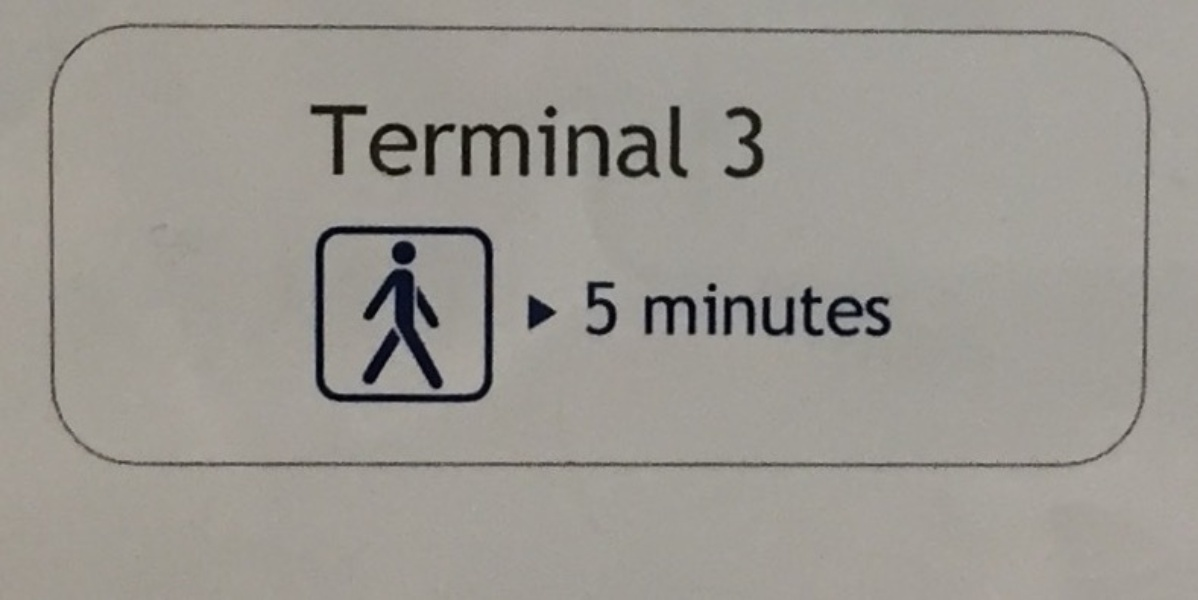text: (737, 104, 752, 181), (321, 104, 336, 180), (337, 104, 352, 180), (353, 104, 368, 180), (369, 104, 384, 180), (385, 104, 400, 180), (401, 104, 416, 180), (417, 104, 432, 180), (433, 104, 448, 180), (449, 104, 464, 180), (465, 104, 480, 180), (481, 104, 496, 180), (497, 104, 512, 180), (513, 104, 528, 180), (529, 104, 544, 180), (545, 104, 560, 180), (561, 104, 576, 180), (577, 104, 592, 180), (593, 104, 608, 180), (609, 104, 624, 180), (625, 104, 640, 180), (641, 104, 656, 180), (657, 104, 672, 180), (673, 104, 688, 180), (753, 104, 767, 181), (723, 104, 736, 181), (593, 278, 608, 338), (657, 280, 672, 339), (673, 280, 688, 339), (689, 280, 704, 339), (705, 280, 720, 339), (721, 280, 736, 339), (737, 280, 752, 339), (753, 280, 768, 339), (769, 280, 784, 339), (785, 280, 800, 339), (801, 280, 816, 339), (817, 280, 832, 339), (833, 280, 848, 339), (849, 280, 864, 339), (865, 280, 880, 339), (309, 104, 320, 180), (643, 280, 656, 339), (881, 280, 893, 339), (609, 278, 620, 338), (584, 278, 592, 338), (689, 104, 691, 180)
